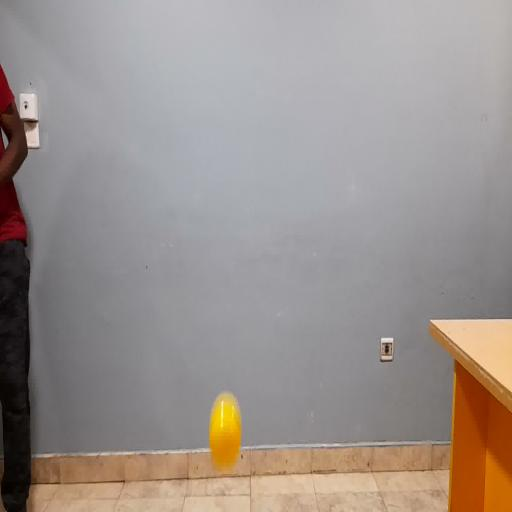plastic-ball: (210, 393, 241, 471)
